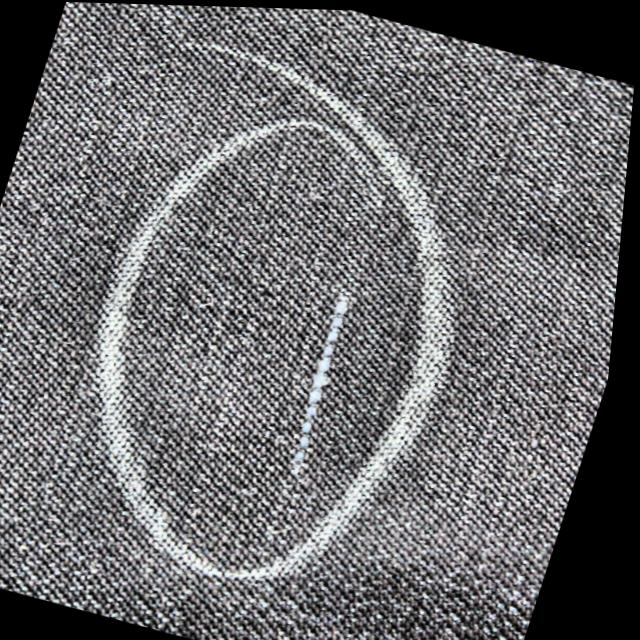Stitch: (248, 272, 387, 493)
